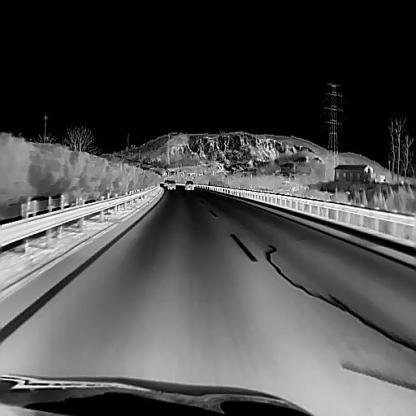car: (184, 180, 194, 190), (166, 178, 175, 188), (163, 178, 168, 185)
